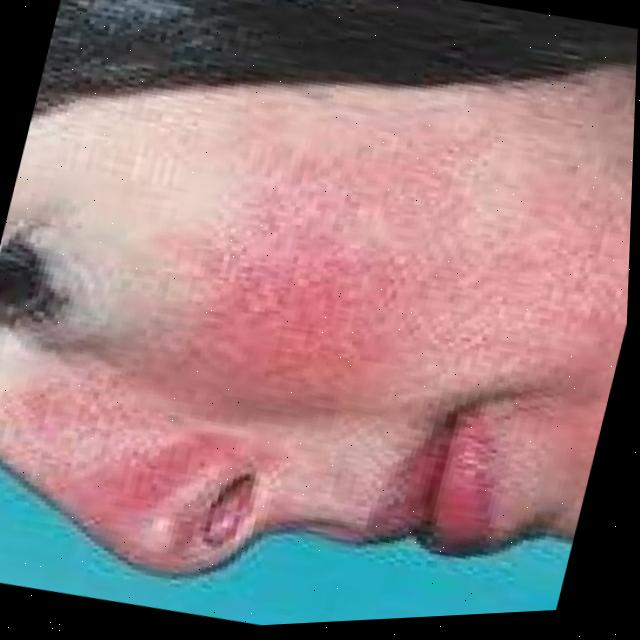Rosacea: (141, 159, 425, 433), (4, 391, 196, 551)
